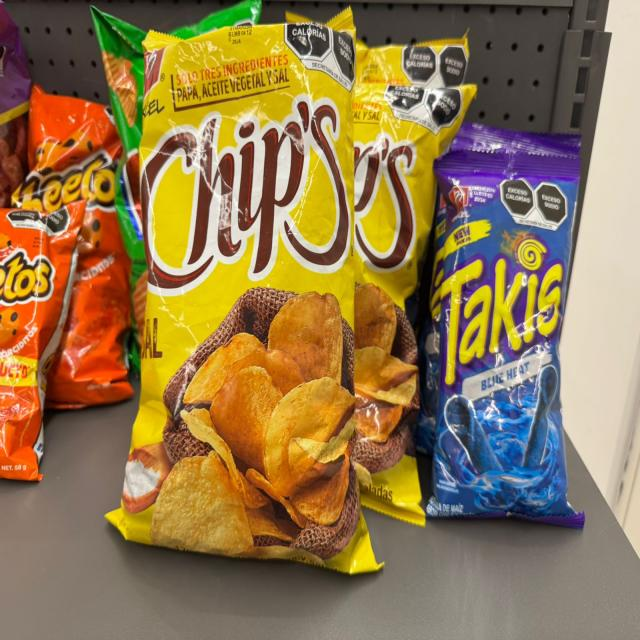CHEETOS TORCIDITOS 240GR: (31, 84, 135, 406), (1, 198, 87, 484)
Papas Chips Barcel 170 gr bolsa con sal: (110, 28, 382, 571), (353, 28, 473, 511)
Takis Blue 75g: (432, 119, 592, 538)
chicharrones de cerdo intenso: (0, 7, 33, 201)
